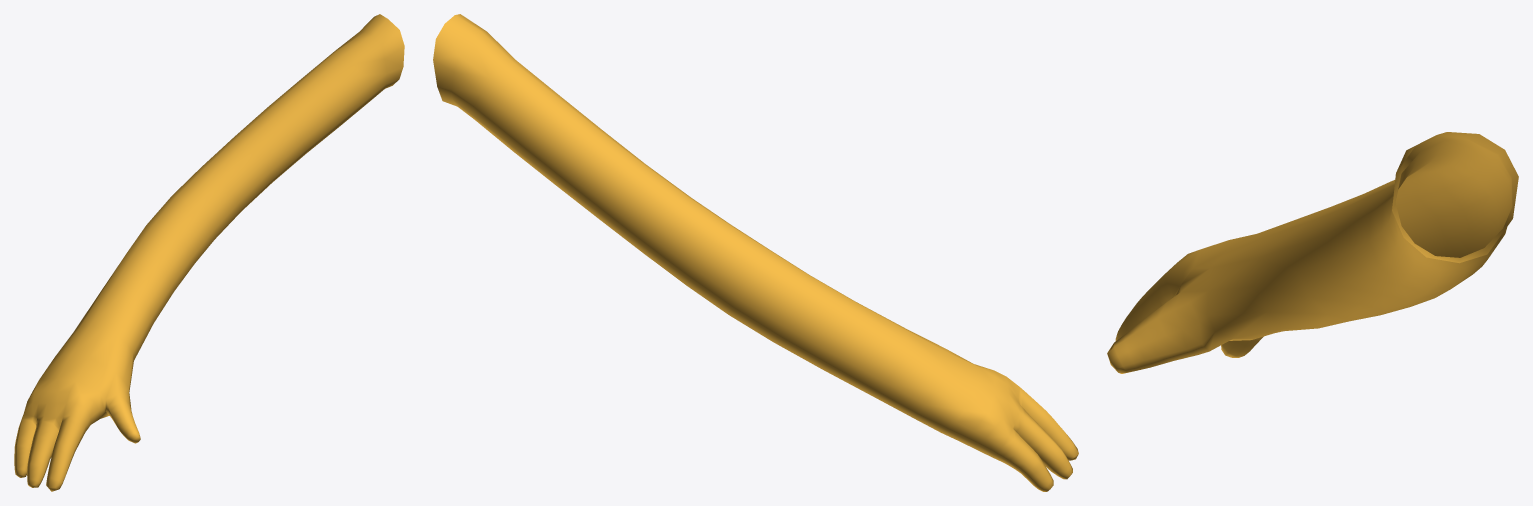
The model's file is R_arm.obj.
The picture shows the model from 3 angles, left to right: view 1: azimuth 30°, elevation 25°; view 2: azimuth 150°, elevation 25°; view 3: azimuth 270°, elevation 25°; orthographic projection. The views are drawn at different scales.
Visible parts, largest first — view 1: R_arm Jake; view 2: R_arm Jake; view 3: R_arm Jake.
Part boxes in pixels (x1,y1,x2,y2): R_arm Jake: (14,14,404,491); R_arm Jake: (433,14,1078,491); R_arm Jake: (1107,132,1518,373).
Bounding box in the file's own units: 5 × 3.52 × 2.07.
